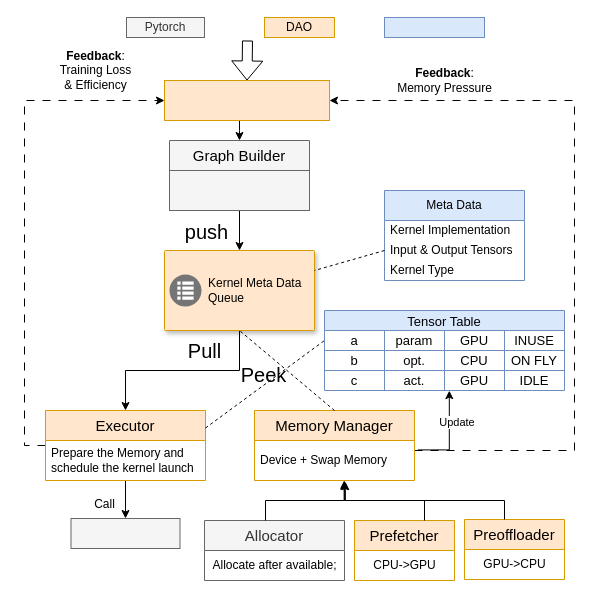
Some shapes in this 600 by 598 pixel diagram are drawn without their labels. The shapes that lost their labels are listed below. From the top down, each one's centre as x and y in pixels, then its label:
the point at 434,27: Data Structure
the point at 247,100: Stochastic Rate Coordinator
the point at 239,190: Interpret the DNN into kernel meta datas
the point at 125,533: Kernel Library
